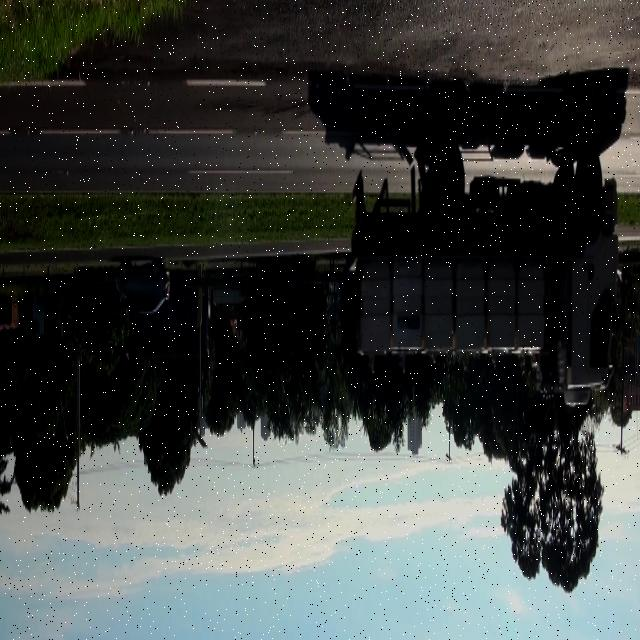-axle: (436, 146, 468, 225), (577, 146, 604, 221)
